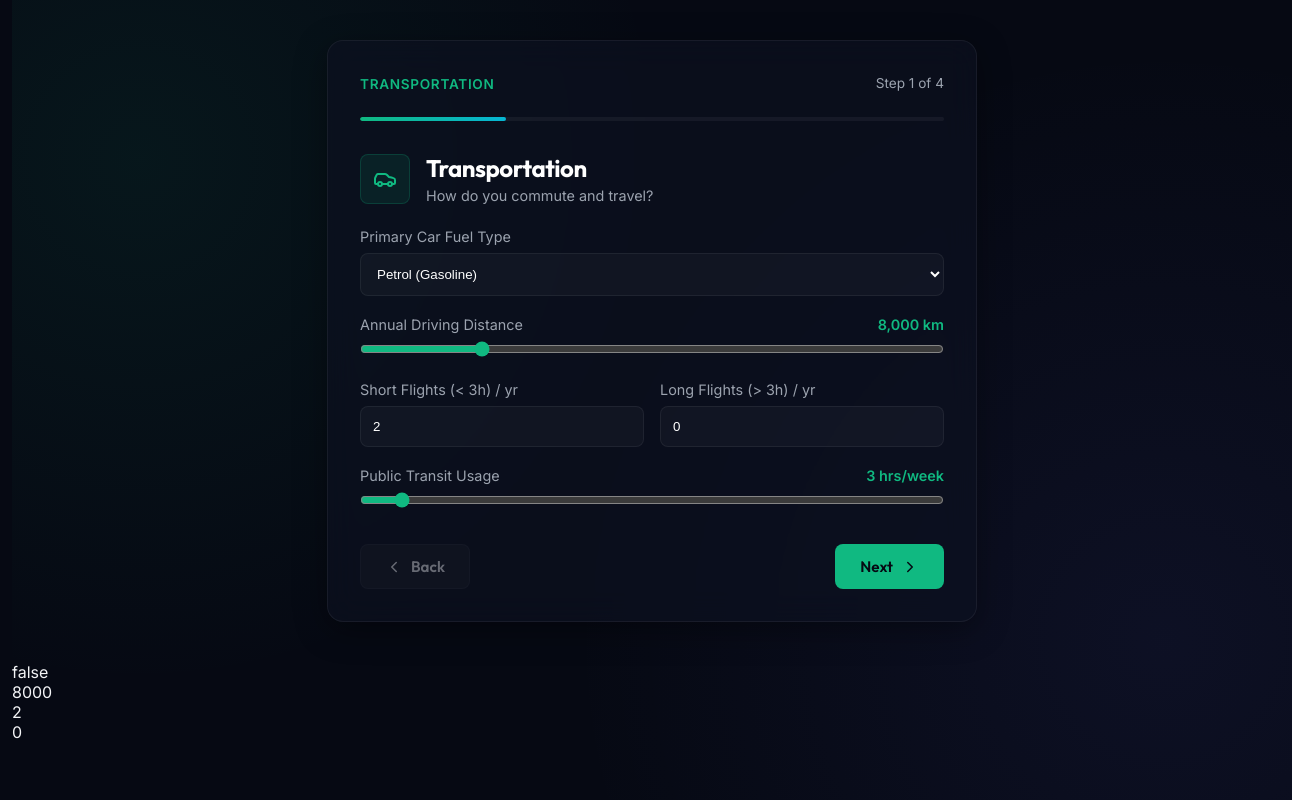
it: CalculatorWizard Component › can navigate steps forward and backward
Expected: the button with aria-label "Previous step" is disabled, [360,544,470,589]
Click Next to go to Step 2: Home Energy
Click the button with aria-label "Next step".
click(890, 566)  # box [835,544,944,589]
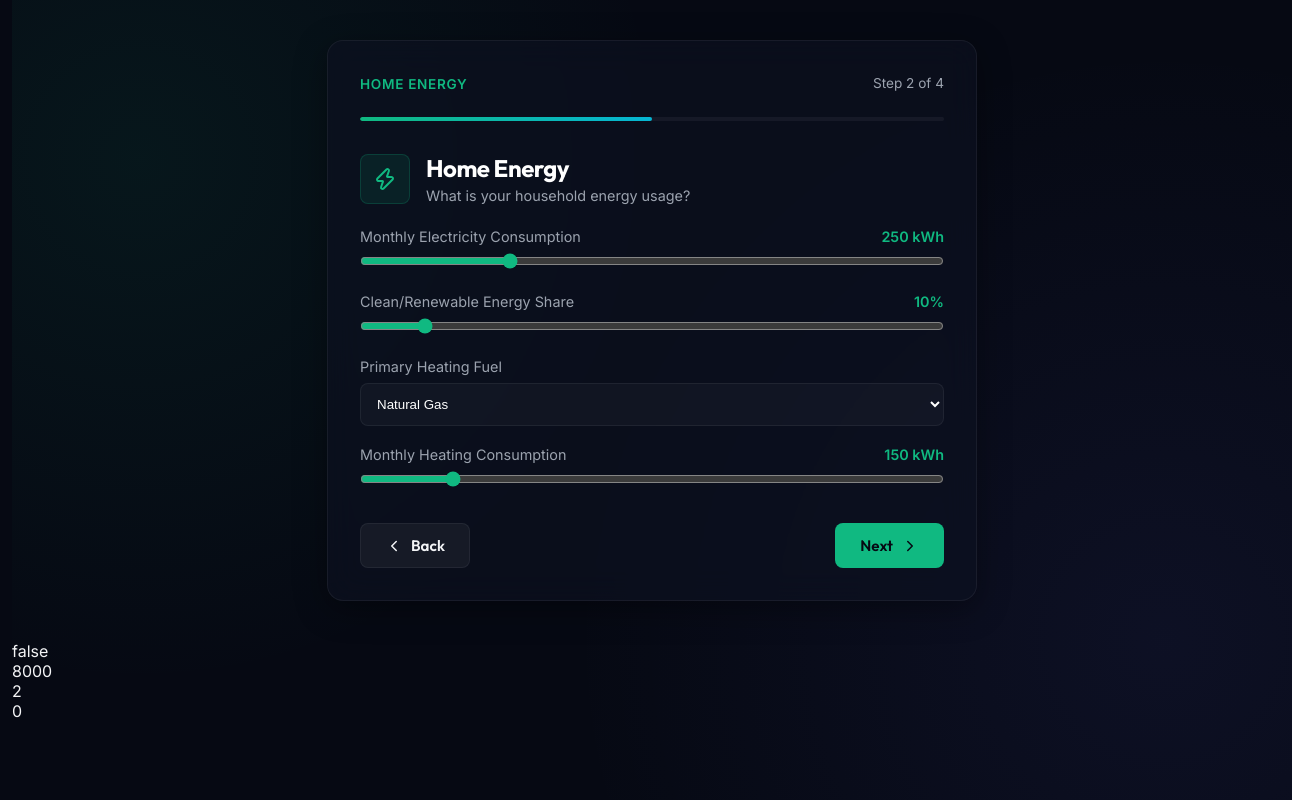
Expected: the text "Step 2 of 4" is shown, [873,75,944,91]
Expected: the text "Home Energy" is shown, [360,76,467,92]
Expected: the button with aria-label "Previous step" is enabled, [360,523,470,568]
Set the slider labelled "Monthly Electricity Consumption 250 kWh" to "450" at (624, 261), box [360,253,944,269]
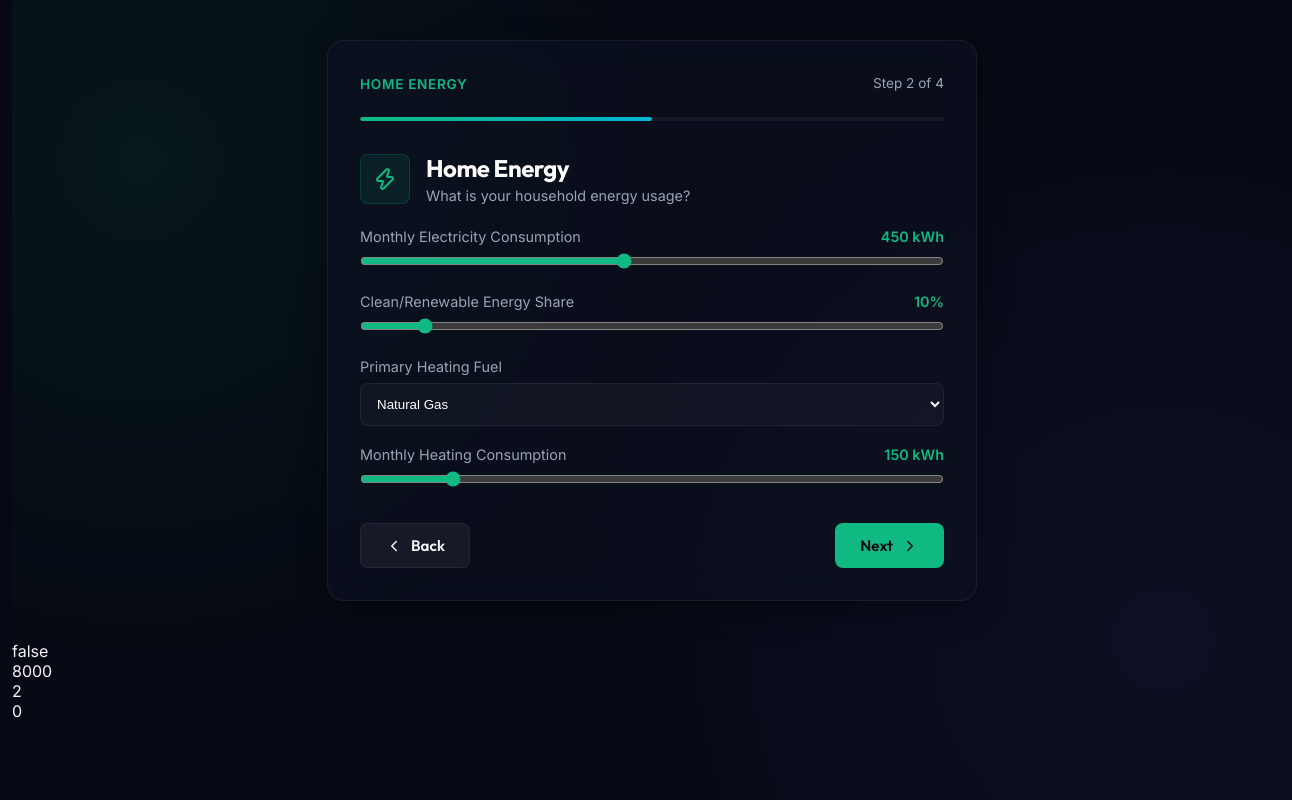
Test Clean energy range slider
Set the slider labelled "Clean/Renewable Energy Share 10%" to "80" at (822, 326), box [360,318,944,334]
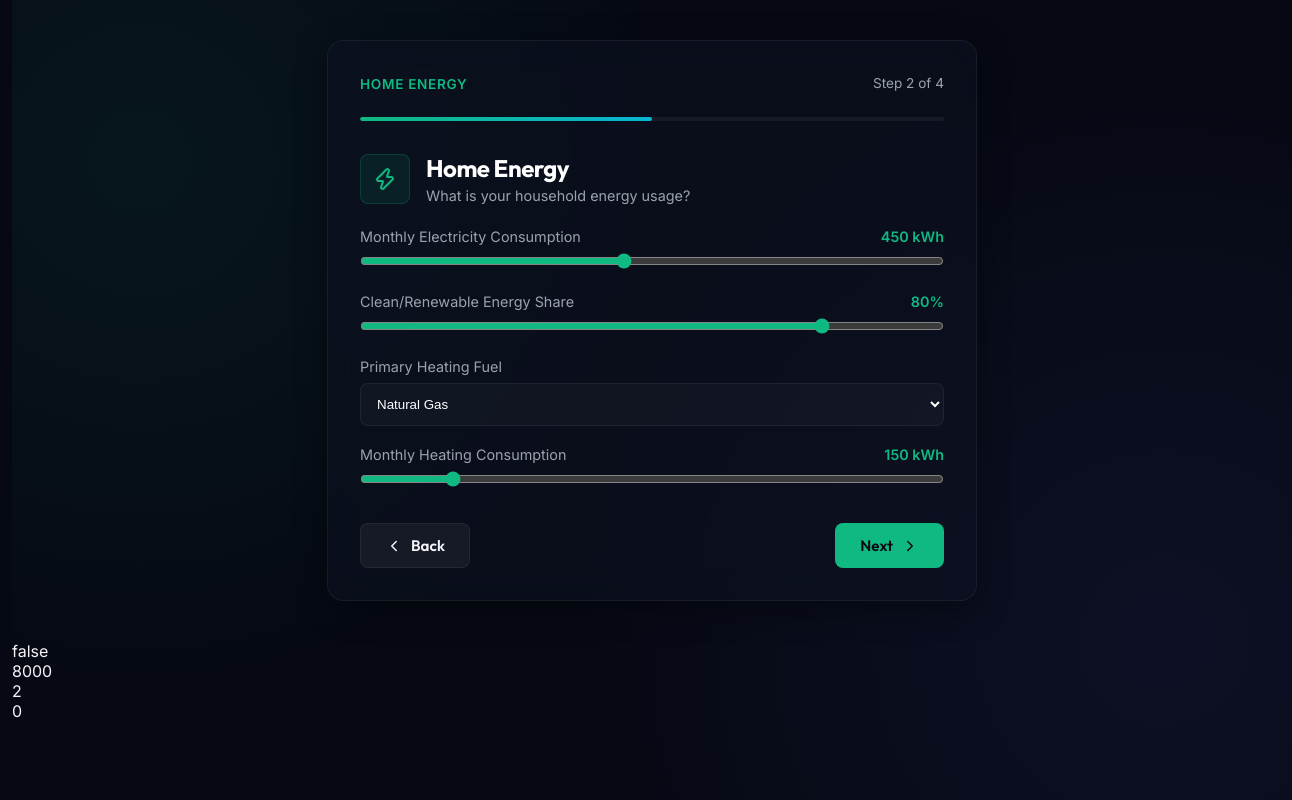
Select natural gas heating and change consumption
Select "Natural Gas" in the dropdown labelled "Primary Heating Fuel" at (652, 404), box [360,383,944,426]
Set the slider labelled "Monthly Heating Consumption 150 kWh" to "300" at (538, 479), box [360,471,944,487]
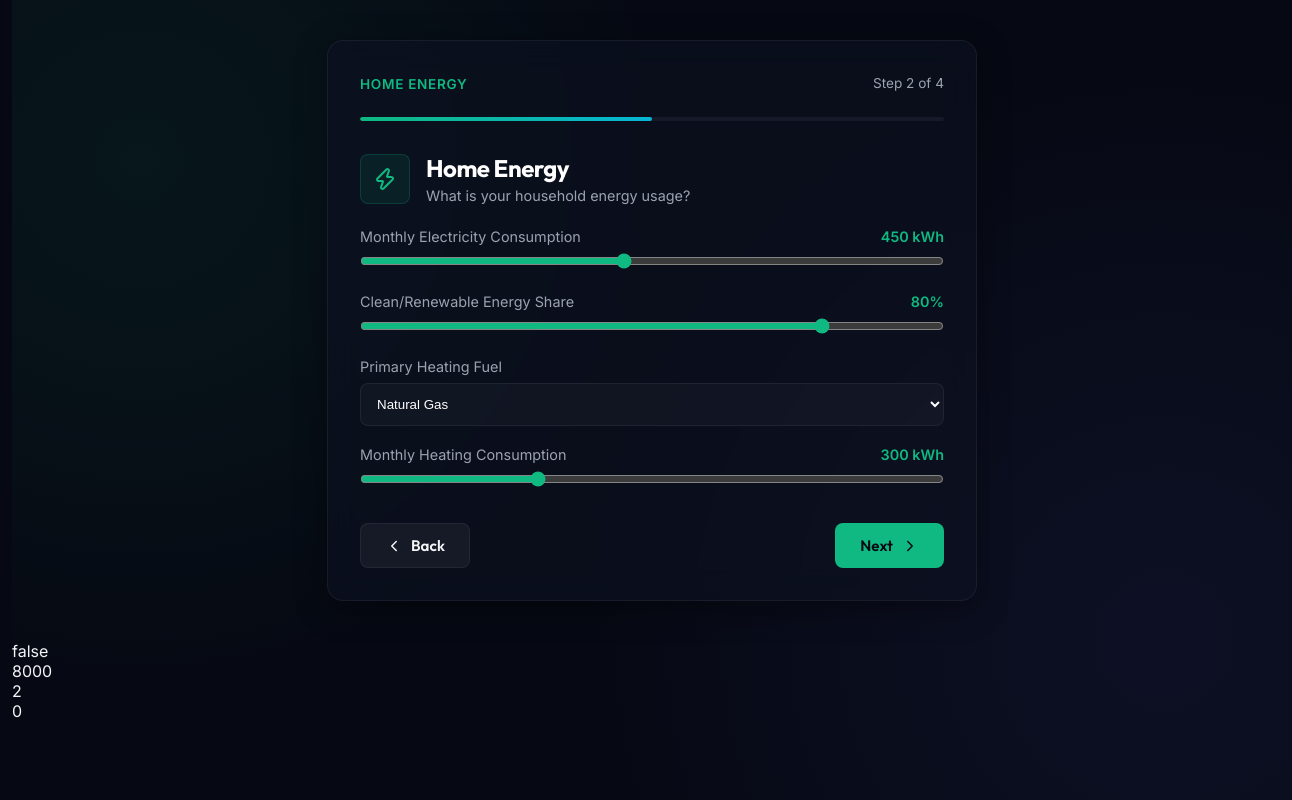
Go Back to Step 1 and check if values are retained
Click the button with aria-label "Previous step".
click(415, 546)  # box [360,523,470,568]
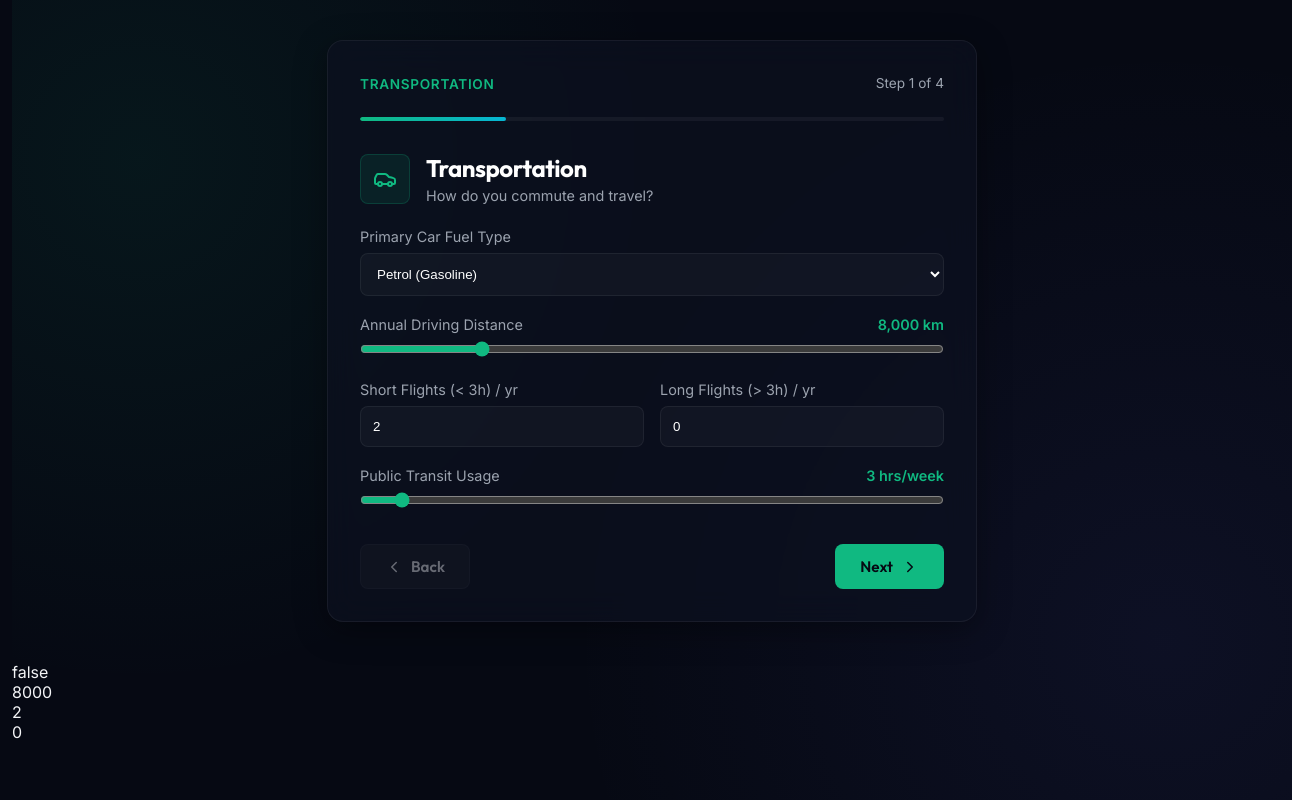
Expected: the text with test id "car-km-val" reads "8000", [12,682,52,702]
Expected: the text "Step 1 of 4" is shown, [876,75,944,91]
Go forward again
Click the button with aria-label "Next step".
click(890, 566)  # box [835,544,944,589]
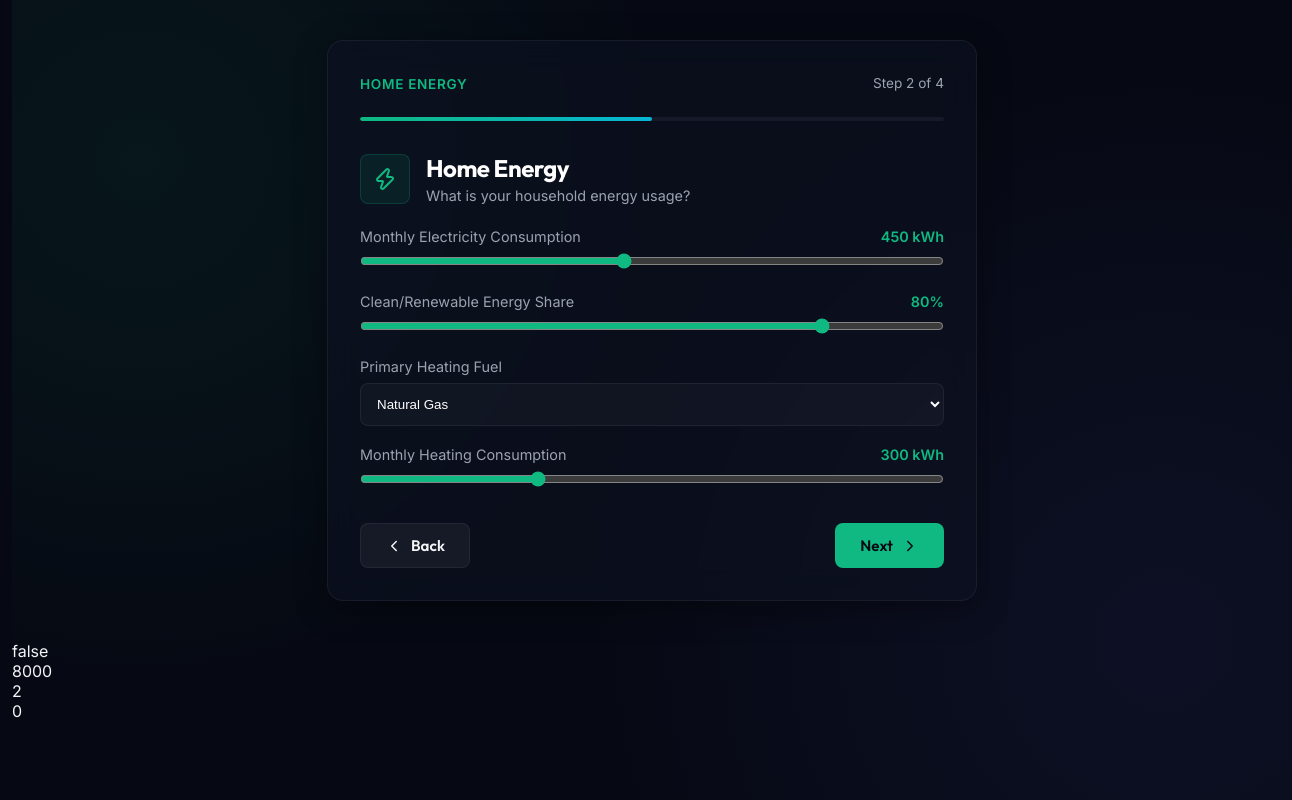
Expected: the text "Step 2 of 4" is shown, [873,75,944,91]
